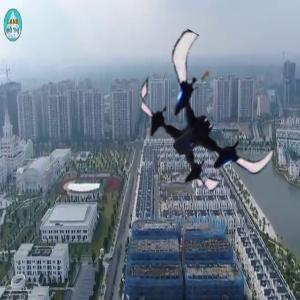drone: (128, 50, 283, 205)
